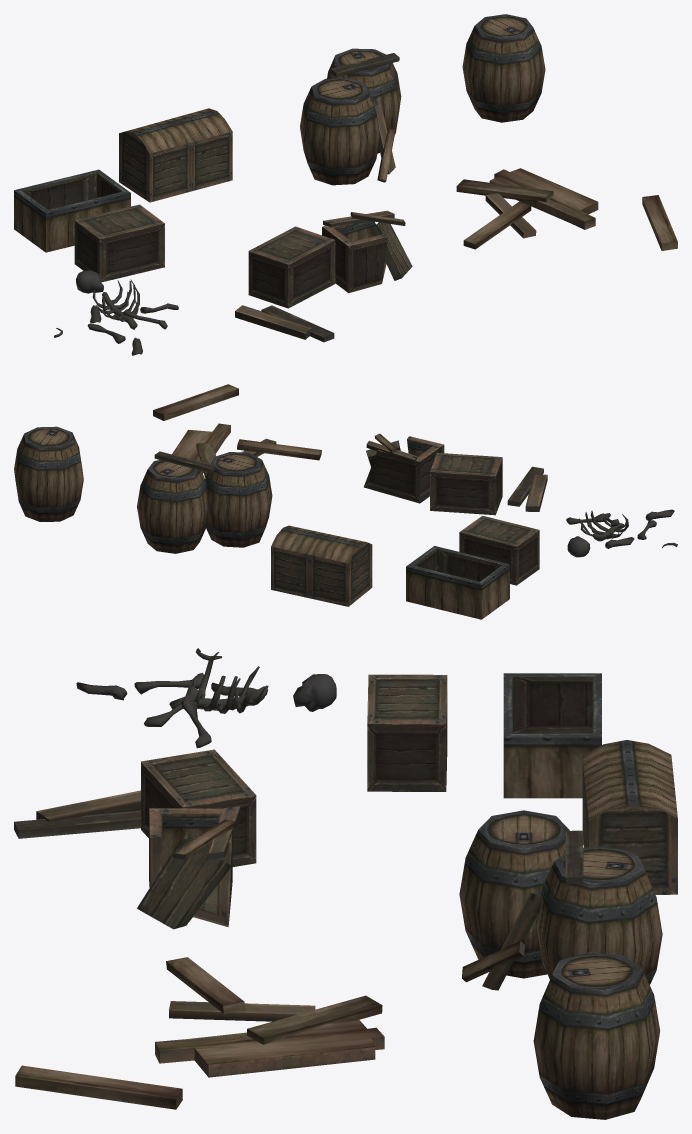
The model's file is d_1009_deco02.FBX.
3 renders of one model, top to bottom at view 1: azimuth 30°, elevation 25°; view 2: azimuth 150°, elevation 25°; view 3: azimuth 270°, elevation 25°, orthographic. The views are drawn at different scales.
Visible parts, largest first — view 1: d_1114_deco02, d_1114_deco04, d_1114_deco03, d_1114_deco01, d_1114_deco05; view 2: d_1114_deco02, d_1114_deco04, d_1114_deco03, d_1114_deco01, d_1114_deco05; view 3: d_1114_deco02, d_1114_deco04, d_1114_deco03, d_1114_deco01, d_1114_deco05.
Part boxes in pixels (x1,y1,x2,y2): d_1114_deco02: (300,14,545,185); d_1114_deco04: (74,204,412,342); d_1114_deco03: (14,108,232,252); d_1114_deco01: (456,168,677,250); d_1114_deco05: (54,270,178,355); d_1114_deco02: (14,426,272,553); d_1114_deco04: (364,433,547,585); d_1114_deco03: (271,525,509,619); d_1114_deco01: (153,384,321,478); d_1114_deco05: (566,509,677,557); d_1114_deco02: (459,810,662,1119); d_1114_deco04: (14,674,447,929); d_1114_deco03: (503,673,677,894); d_1114_deco01: (15,957,384,1109); d_1114_deco05: (76,648,336,748).
Size of the model in its own units: 1283 by 188 by 776.
Materials: 1 (1 with a texture image).
